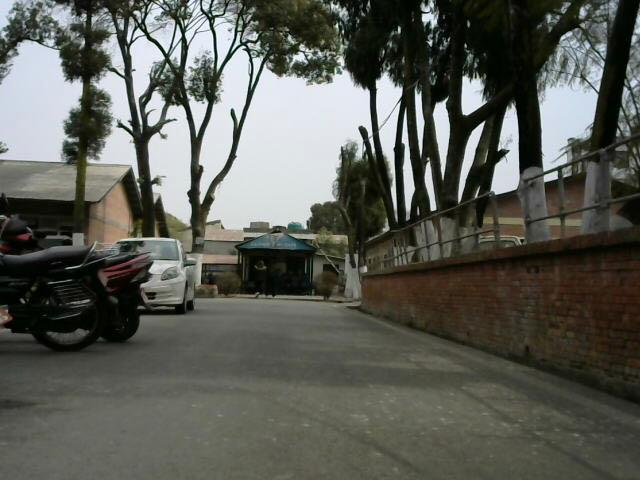Building: (239, 225, 317, 296)
Car: (111, 226, 226, 321)
Motorcycle: (0, 196, 153, 356)
Road: (10, 297, 640, 478)
Tree: (0, 0, 432, 196)
